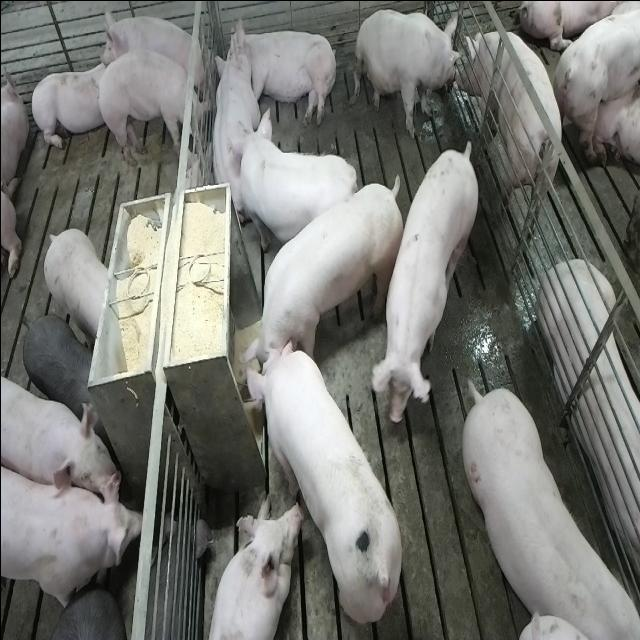Feeding: (240, 334, 404, 625), (241, 170, 408, 382)
Lateral_lying: (222, 13, 338, 128)
Sitting: (353, 7, 463, 138)
Standing: (456, 374, 635, 636), (373, 131, 481, 427), (2, 452, 142, 618), (457, 27, 558, 235), (233, 108, 359, 260), (2, 366, 118, 508), (94, 52, 208, 174), (559, 0, 640, 157), (22, 310, 98, 430), (42, 226, 110, 344), (35, 590, 123, 640)
Sternal_lying: (540, 261, 640, 592), (204, 494, 298, 640), (207, 45, 260, 214), (28, 50, 113, 154)
